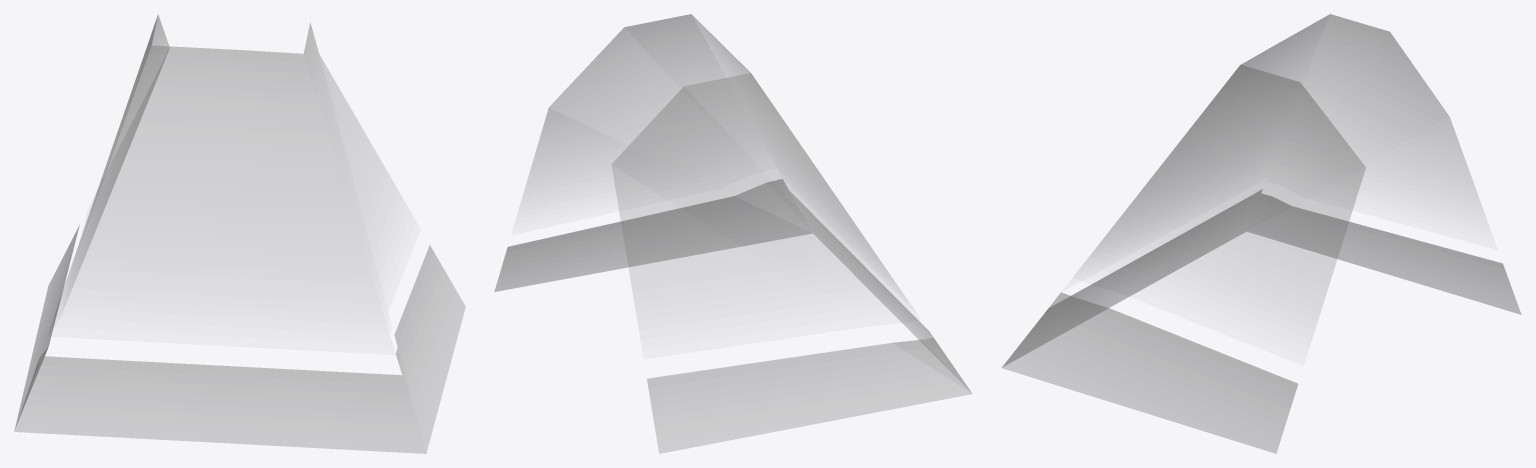
The model's file is Dam_Alpha_63.glb.
3 renders of one model, left to right at view 1: azimuth 30°, elevation 25°; view 2: azimuth 150°, elevation 25°; view 3: azimuth 270°, elevation 25°, orthographic. The views are drawn at different scales.
Visible parts, largest first — view 1: Dam_Alpha_63; view 2: Dam_Alpha_63; view 3: Dam_Alpha_63.
Boxes of the visible parts, left/top/right/bottom form: Dam_Alpha_63: left=14, top=14, right=465, bottom=453; Dam_Alpha_63: left=494, top=14, right=972, bottom=453; Dam_Alpha_63: left=1002, top=14, right=1521, bottom=453.
Size of the model in its own units: 11 by 7 by 10.88.
Materials: 1 (1 with a texture image).
